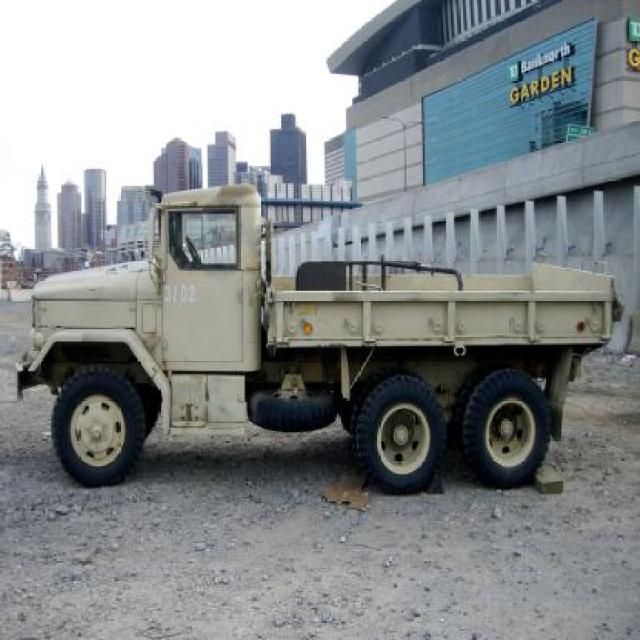Truck: (9, 188, 620, 498)
